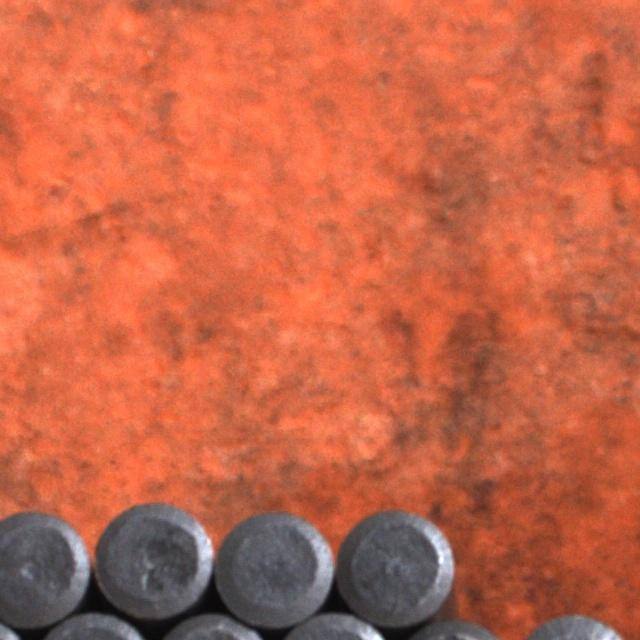tool: (89, 491, 215, 619), (210, 502, 335, 630), (332, 500, 455, 630), (0, 502, 90, 628)
